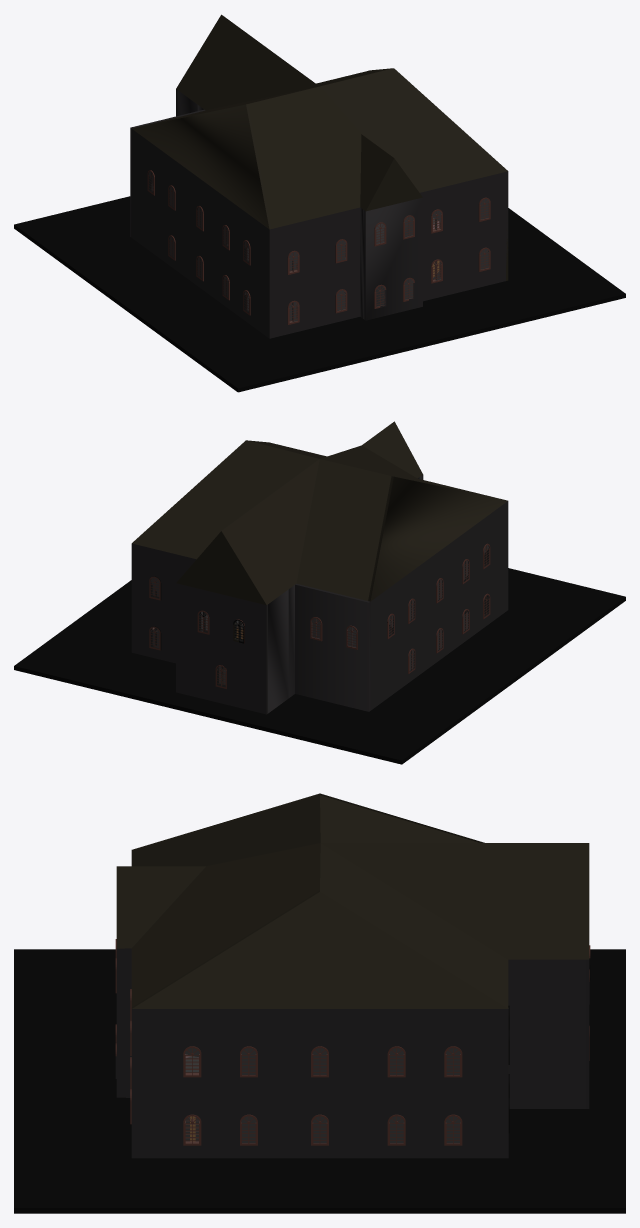
Rendered from new_oksford.fbx.
3 views of the same model, one above another, from view 1: azimuth 30°, elevation 25°; view 2: azimuth 150°, elevation 25°; view 3: azimuth 270°, elevation 25° (orthographic). The views are drawn at different scales.
Visible parts, largest first — view 1: 屋根, i家外の壁, y床, m窓枠; view 2: i家外の壁, 屋根, y床, m窓枠; view 3: 屋根, i家外の壁, y床, m窓枠.
Part boxes in pixels (x1,y1,x2,y2): 屋根: (132,14,507,229); i家外の壁: (130,89,508,338); y床: (14,171,625,392); m窓枠: (147,170,490,324); i家外の壁: (131,475,508,714); 屋根: (132,421,507,605); y床: (14,545,625,764); m窓枠: (149,543,490,688); 屋根: (116,793,589,1008); i家外の壁: (115,948,589,1158); y床: (14,949,625,1213); m窓枠: (115,939,590,1145).
Bounding box in the file's own units: 32482 × 14159 × 32482.
